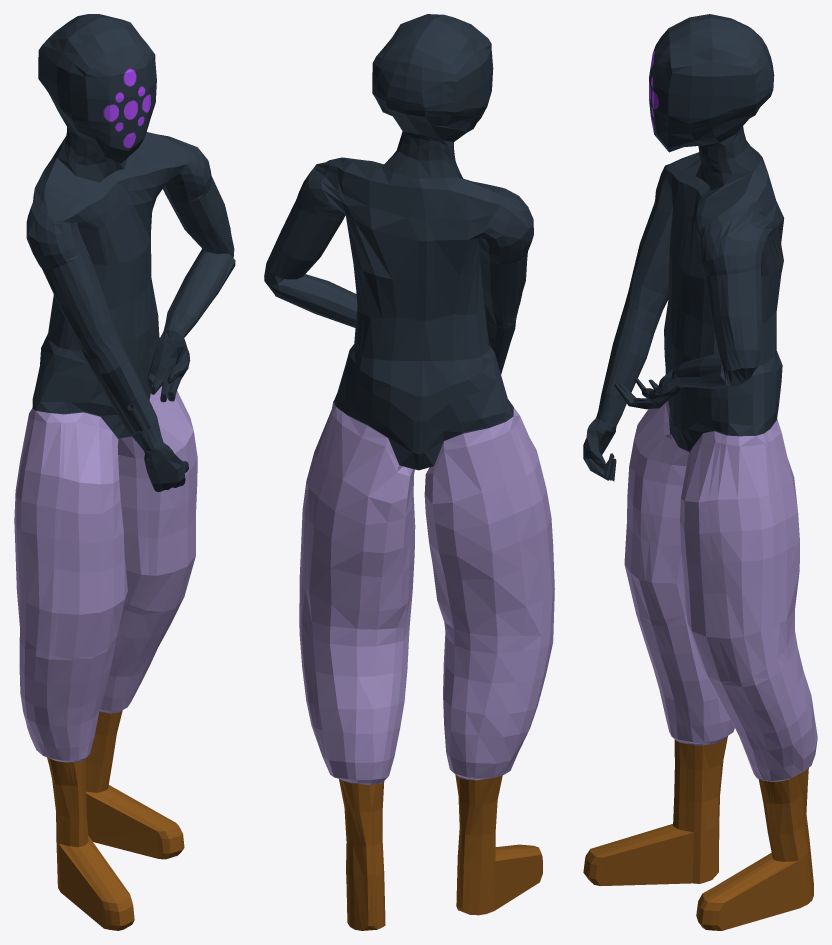
Rendered from Oracle_WL_000001.obj.
3 views of the same model, side by side, from view 1: azimuth 30°, elevation 25°; view 2: azimuth 150°, elevation 25°; view 3: azimuth 270°, elevation 25° (orthographic). The views are drawn at different scales.
Parts seen in each view (by area): view 1: Cube; view 2: Cube; view 3: Cube.
Part boxes in pixels (box(x1,y1,x2,y2)): Cube: box(14, 14, 235, 930); Cube: box(264, 14, 554, 930); Cube: box(583, 14, 817, 930).
Size of the model in its own units: 1.15 by 3.94 by 0.9516.
